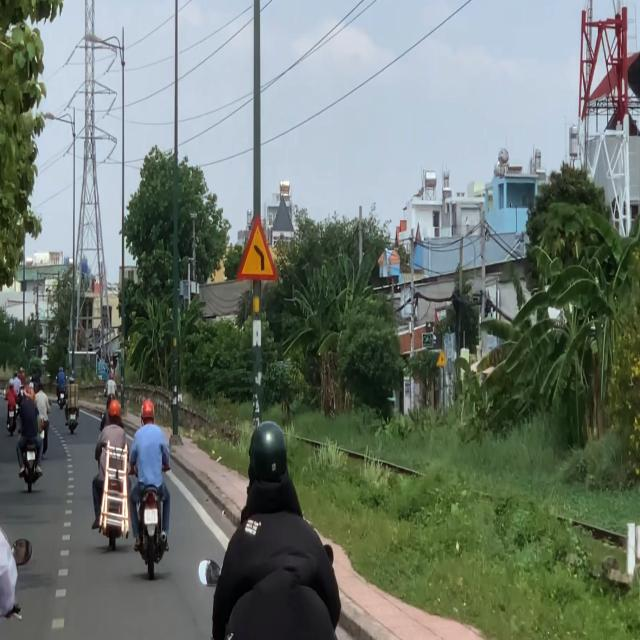Nguy hiem: (234, 211, 280, 285)
